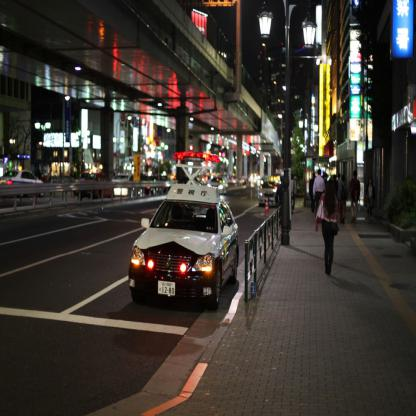Car: (127, 180, 236, 315), (258, 177, 280, 208), (0, 168, 41, 184)
